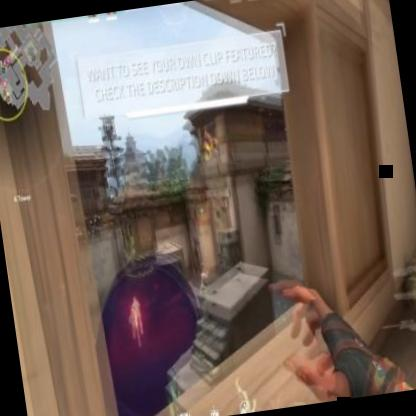enemy: (129, 294, 145, 338)
enemy_head: (132, 296, 136, 301)
